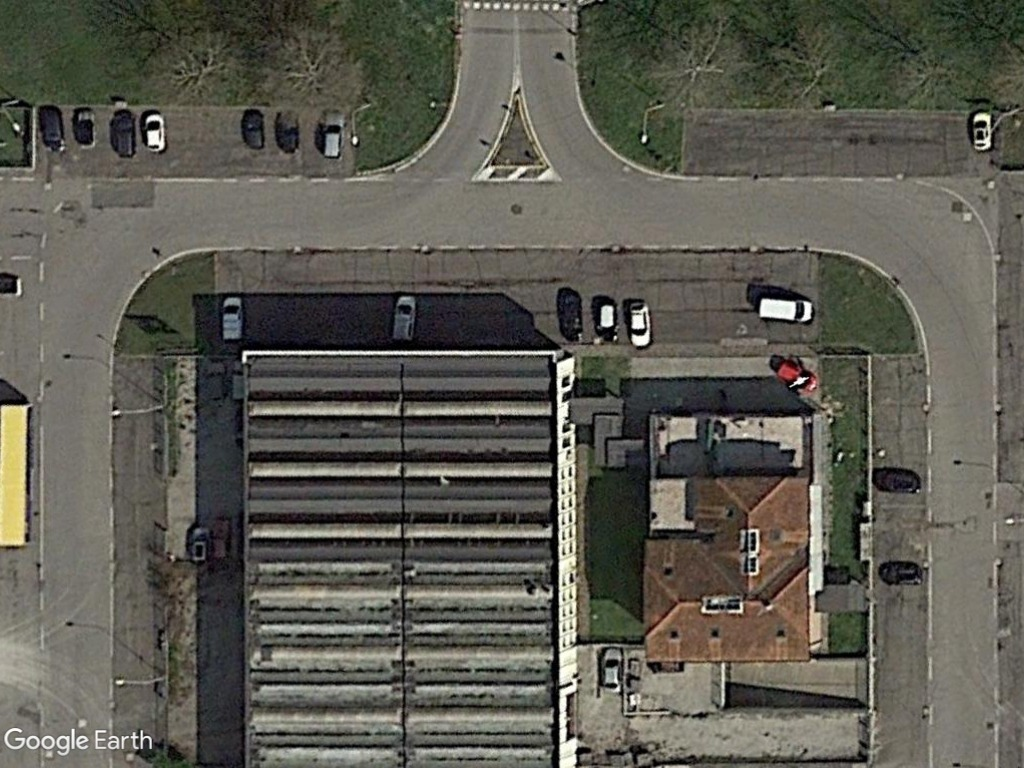car: (318, 106, 351, 162), (625, 296, 655, 352), (141, 108, 172, 156), (240, 107, 270, 154), (72, 105, 101, 153), (971, 108, 997, 155)
van: (754, 290, 820, 326), (390, 289, 421, 348), (218, 292, 247, 345)
